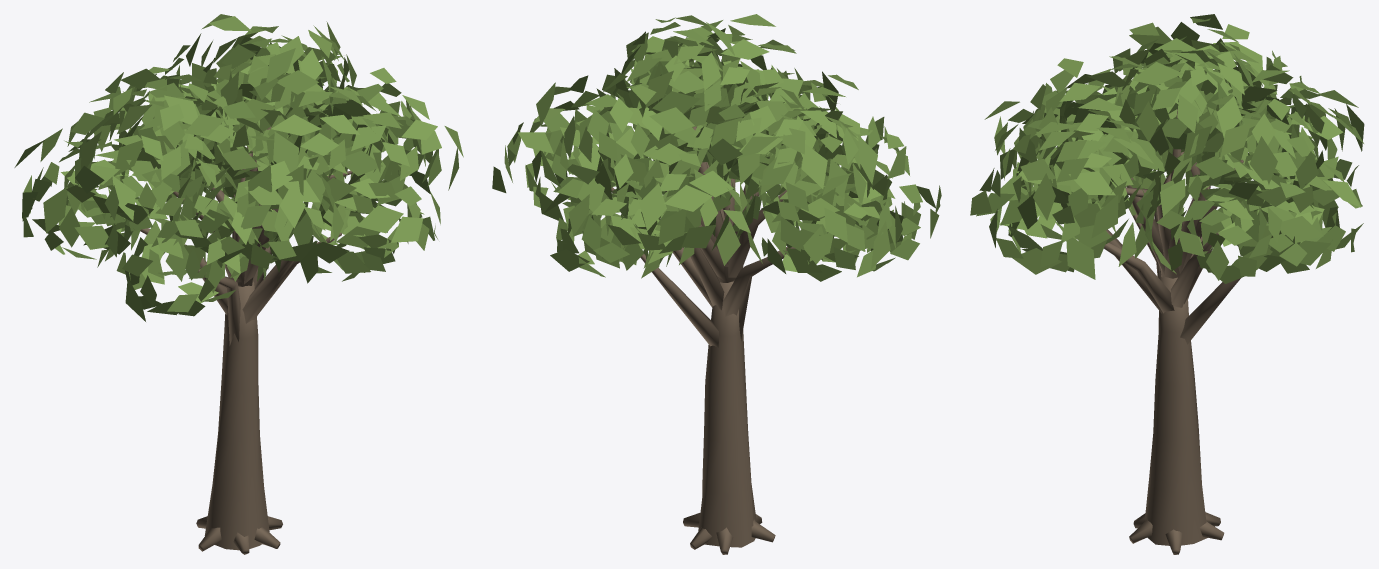
The model's file is oak-broad.glb.
3 views of the same model, side by side, from view 1: azimuth 30°, elevation 25°; view 2: azimuth 150°, elevation 25°; view 3: azimuth 270°, elevation 25° (orthographic). The views are drawn at different scales.
Visible parts, largest first — view 1: tree_oak-broad_LOD0; view 2: tree_oak-broad_LOD0; view 3: tree_oak-broad_LOD0.
Boxes of the visible parts, left/top/right/bottom form: tree_oak-broad_LOD0: left=14, top=14, right=463, bottom=554; tree_oak-broad_LOD0: left=492, top=14, right=941, bottom=554; tree_oak-broad_LOD0: left=970, top=14, right=1364, bottom=554.
Size of the model in its own units: 10.19 by 12.21 by 8.66.
